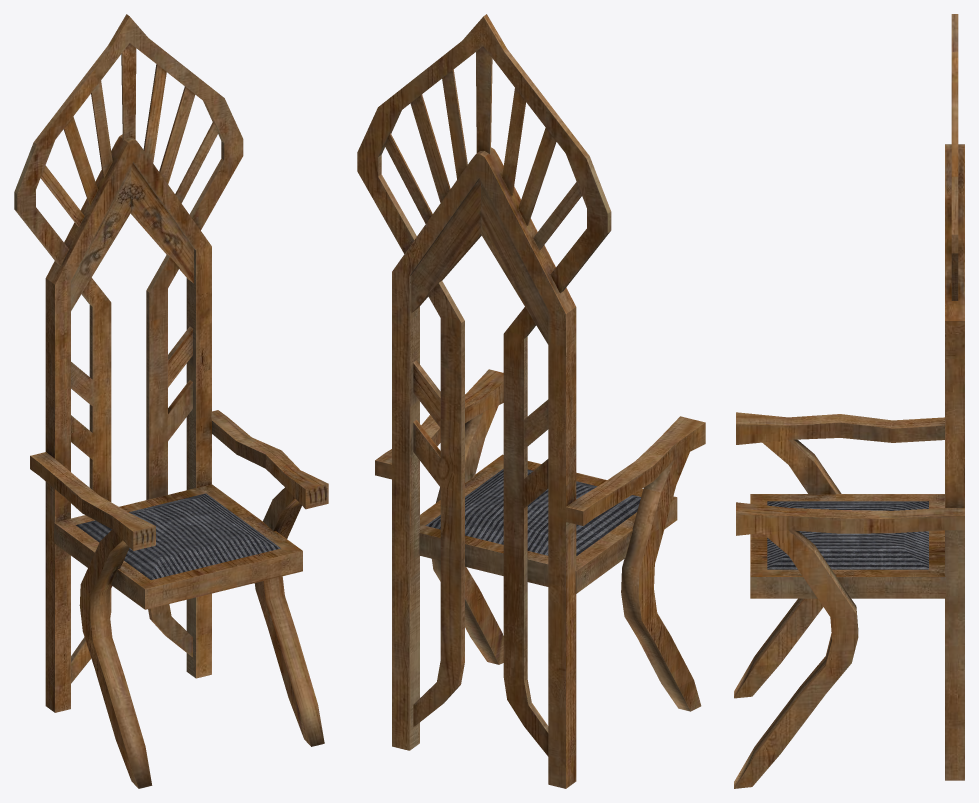
The model's file is elven_chair.glb.
The picture shows the model from 3 angles, left to right: view 1: azimuth 30°, elevation 25°; view 2: azimuth 150°, elevation 25°; view 3: azimuth 270°, elevation 25°; orthographic projection. The views are drawn at different scales.
Visible parts, largest first — view 1: Object_3, Object_2; view 2: Object_3, Object_2; view 3: Object_3, Object_2.
Part boxes in pixels (box(x1,y1,x2,y2)): Object_3: box(14, 14, 328, 788); Object_2: box(76, 493, 280, 579); Object_3: box(357, 14, 705, 788); Object_2: box(425, 469, 640, 555); Object_3: box(734, 14, 964, 788); Object_2: box(767, 501, 928, 569).
Size of the model in its own units: 60.03 by 172 by 49.53.
2 materials, 2 textured.
